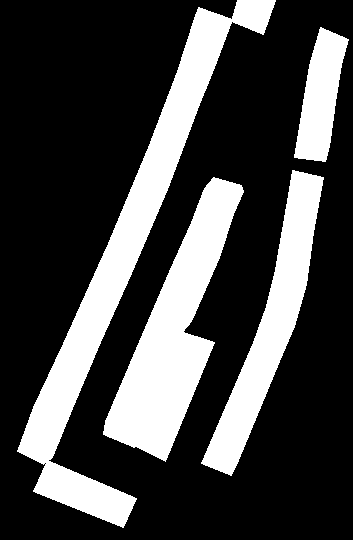parkingspot: (17, 7, 232, 464), (103, 177, 243, 447), (201, 170, 323, 475), (132, 331, 214, 461), (294, 27, 348, 161), (33, 460, 136, 527), (231, 0, 275, 34)
